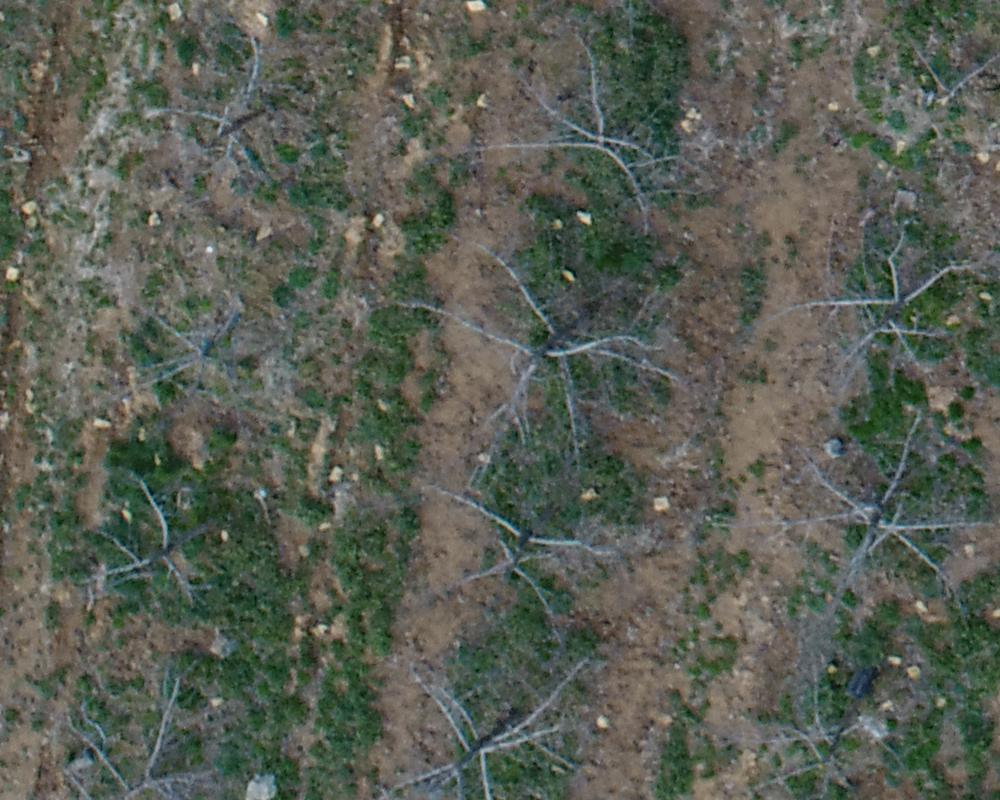apple: (413, 236, 700, 453), (467, 35, 716, 250), (760, 411, 990, 616), (388, 451, 653, 625), (354, 634, 633, 790), (764, 221, 988, 392), (123, 38, 319, 199), (39, 653, 256, 790), (88, 284, 273, 421), (84, 458, 247, 611), (740, 657, 903, 790), (871, 17, 990, 136)
